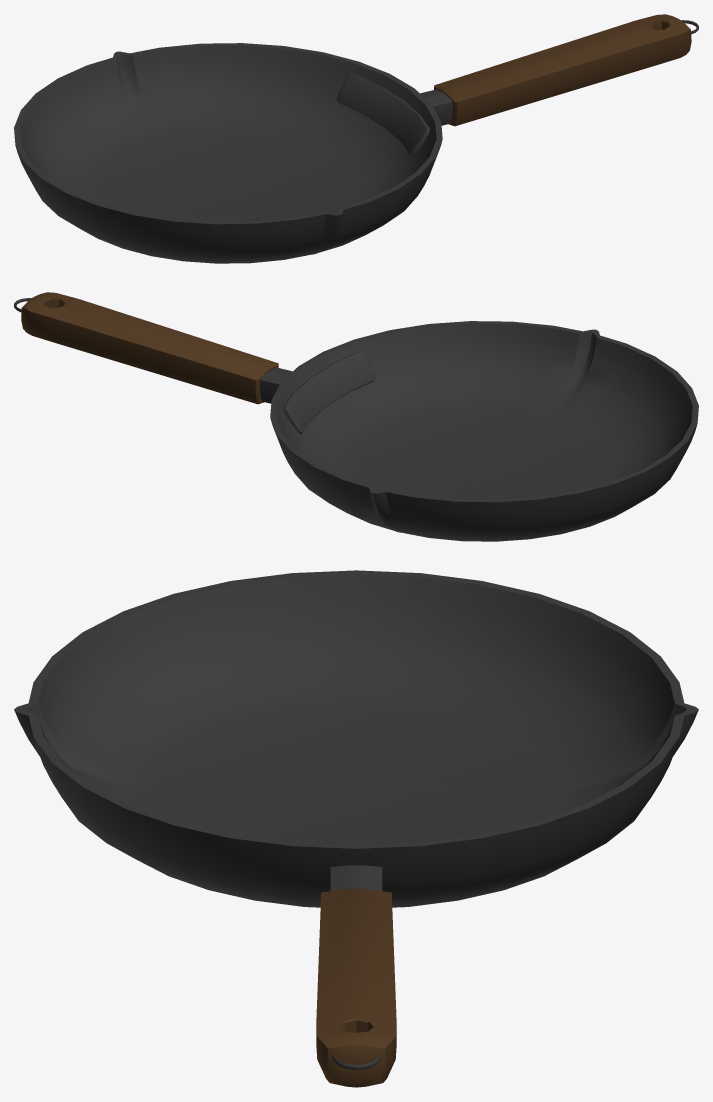
Rendered from Pan_low.fbx.
3 renders of one model, top to bottom at view 1: azimuth 30°, elevation 25°; view 2: azimuth 150°, elevation 25°; view 3: azimuth 270°, elevation 25°, orthographic. The views are drawn at different scales.
Parts seen in each view (by area): view 1: Pan_low; view 2: Pan_low; view 3: Pan_low.
Part boxes in pixels (x1,y1,x2,y2): Pan_low: (14, 14, 698, 263); Pan_low: (14, 292, 698, 541); Pan_low: (14, 570, 698, 1087).
Bounding box in the file's own units: 484 × 47.57 × 286.
